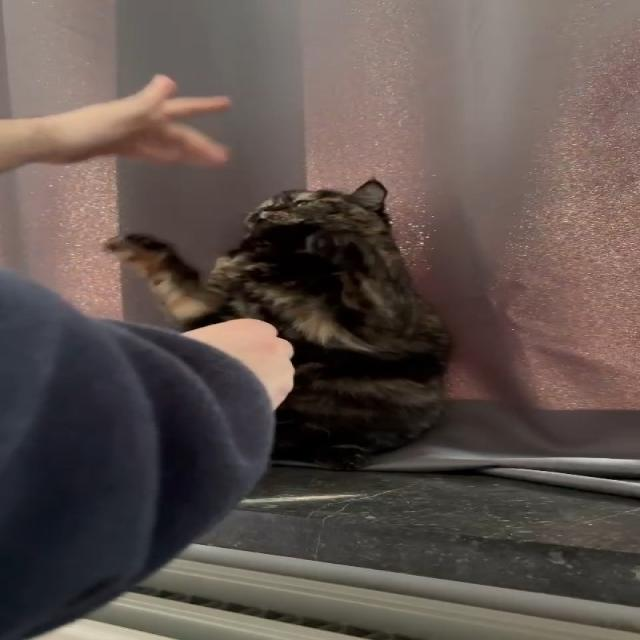authorized: (102, 177, 454, 471)
